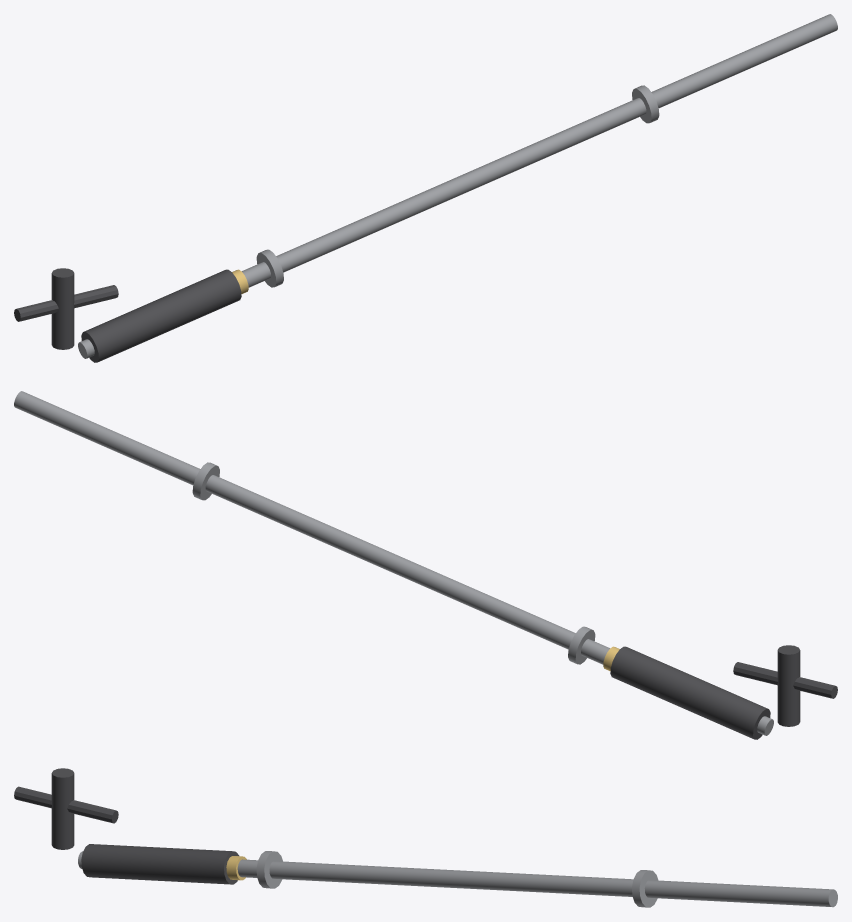
Rendered from Shafting.glb.
3 renders of one model, top to bottom at view 1: azimuth 30°, elevation 25°; view 2: azimuth 150°, elevation 25°; view 3: azimuth 330°, elevation 25°, orthographic.
Visible parts, largest first — view 1: Shafting; view 2: Shafting; view 3: Shafting.
Part boxes in pixels (<box>): Shafting: <box>14,14,837,362</box>; Shafting: <box>14,391,837,739</box>; Shafting: <box>14,768,837,907</box>.
Bounding box in the file's own units: 2.5 × 0.4869 × 0.1008.
